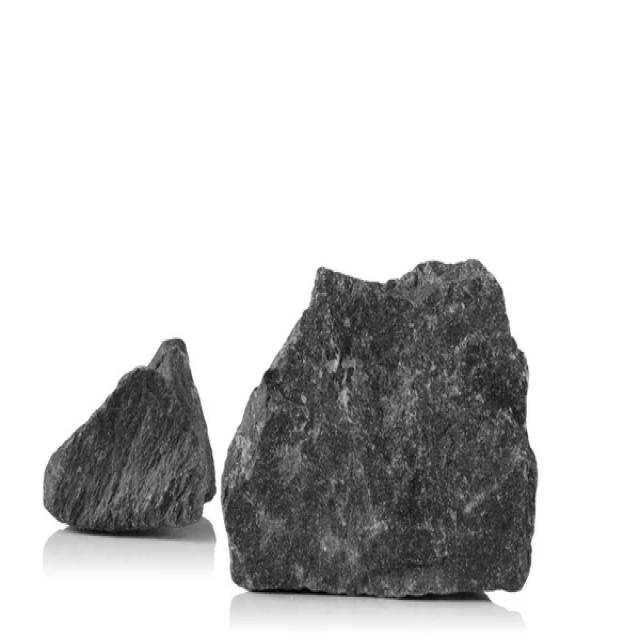Stone: (222, 260, 539, 598), (44, 339, 215, 532)
